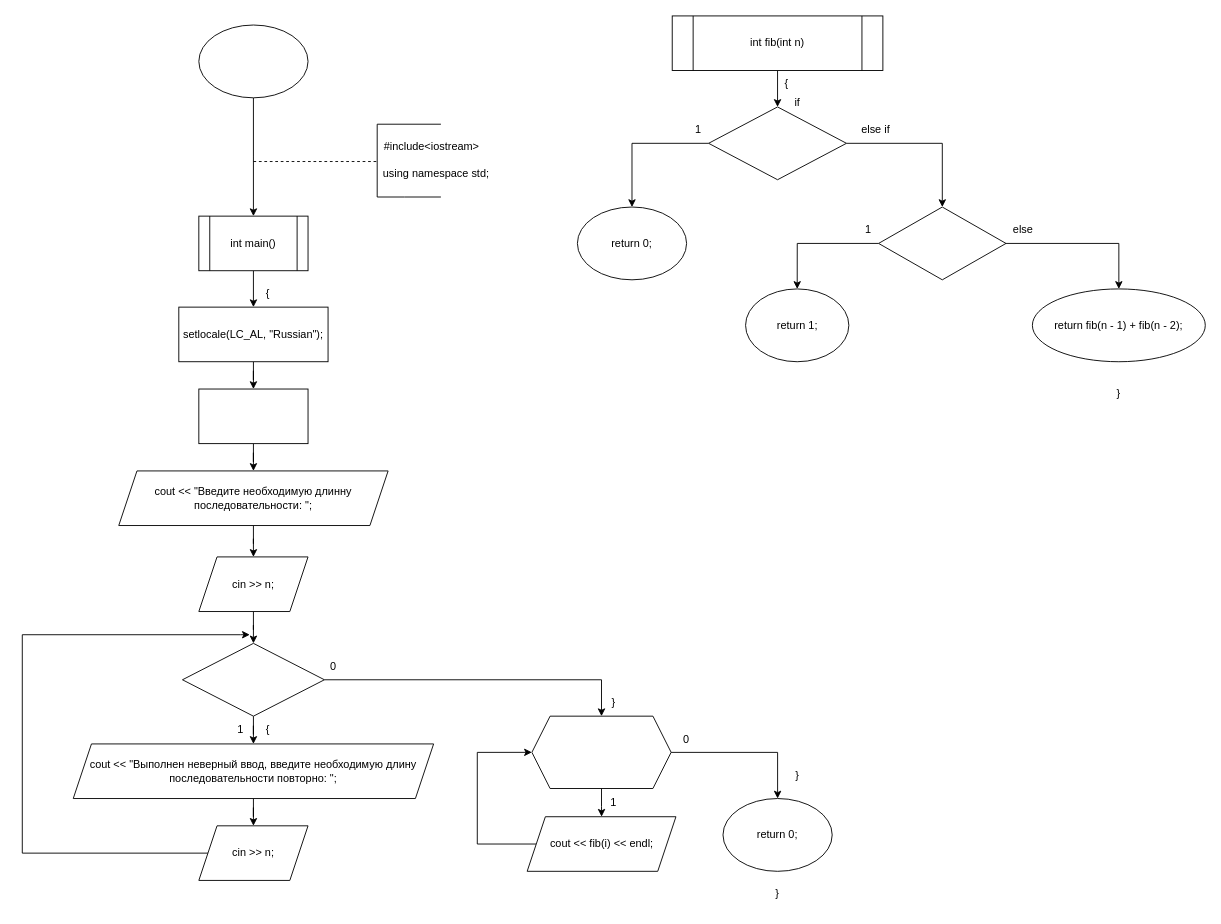
Some shapes in this 1221 by 924 pixel diagram are drawn without their labels. Each missing label, with the box of its shape:
(n == 1): (708, 106, 846, 180)
(n == 2): (878, 206, 1006, 280)
for(int i = 1; i <= n; i++): (531, 715, 671, 789)
int n;: (198, 388, 308, 444)
while(n < 0): (182, 642, 324, 716)
Начало: (198, 24, 308, 98)
